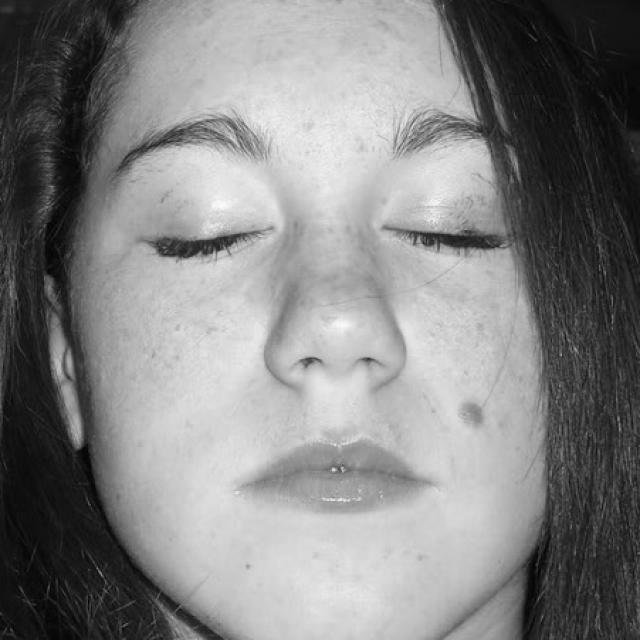real: (63, 2, 560, 636), (120, 190, 522, 292)
